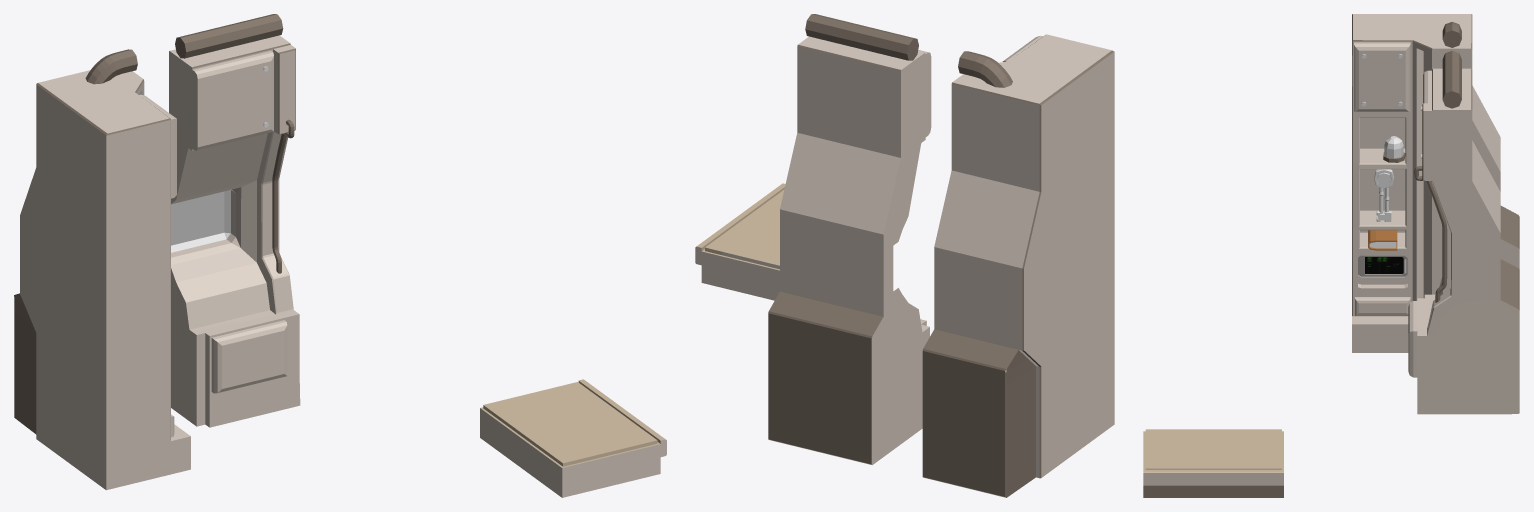
File: tile3.fbx
3 views of the same model, side by side, from view 1: azimuth 30°, elevation 25°; view 2: azimuth 150°, elevation 25°; view 3: azimuth 270°, elevation 25° (orthographic). The views are drawn at different scales.
Visible parts, largest first — view 1: Tile3MainP2, Tile3MainP3, Tile3MainP1; view 2: Tile3MainP2, Tile3MainP3, Tile3MainP1; view 3: Tile3MainP2, Tile3MainP3, Tile3MainP1, Computer screen, Key, Book.
Part boxes in pixels (bbox=[...]): Tile3MainP2: bbox=[14, 49, 190, 490]; Tile3MainP3: bbox=[169, 14, 300, 427]; Tile3MainP1: bbox=[480, 379, 666, 497]; Tile3MainP2: bbox=[922, 34, 1114, 497]; Tile3MainP3: bbox=[768, 14, 931, 465]; Tile3MainP1: bbox=[695, 183, 785, 300]; Tile3MainP2: bbox=[1352, 14, 1519, 352]; Tile3MainP3: bbox=[1408, 50, 1519, 414]; Tile3MainP1: bbox=[1143, 429, 1283, 497]; Computer screen: bbox=[1358, 255, 1407, 276]; Key: bbox=[1374, 169, 1393, 221]; Book: bbox=[1368, 230, 1397, 250].
Size of the model in its own units: 215 by 176 by 187.
